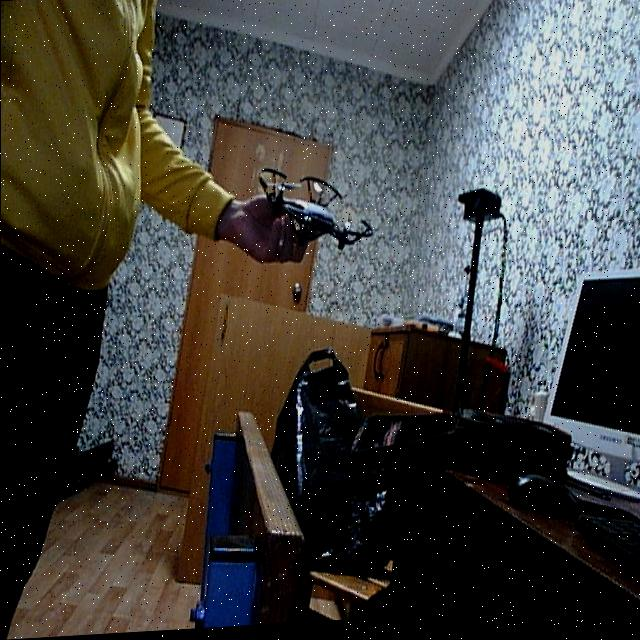drone: (247, 161, 383, 265)
